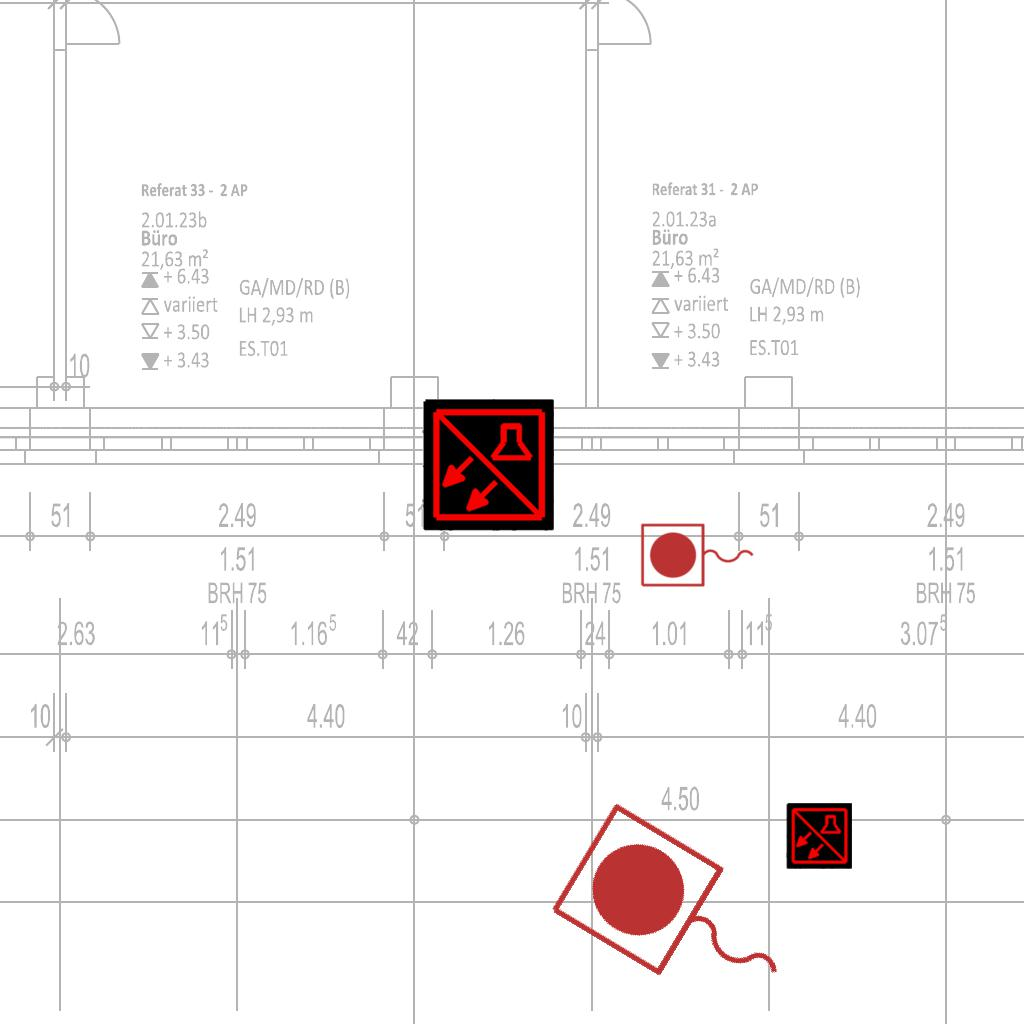OKW_Multisensormelder_(Kombination_optischer_Rauch-Kahlenmonoxid_Waerme-Melder): (422, 399, 554, 531), (786, 803, 852, 869)
Zugtaster: (538, 792, 822, 1024), (637, 520, 759, 592)
